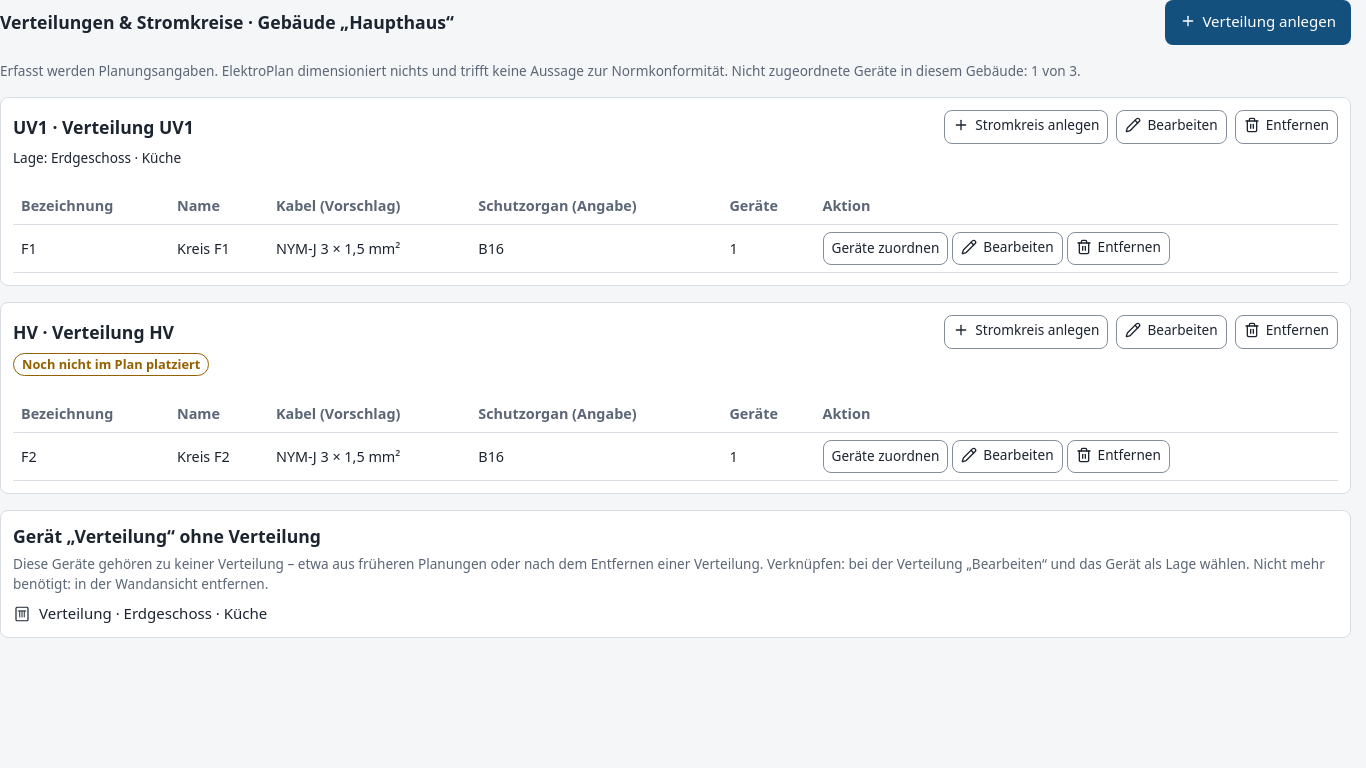
Test: Verteilungen und Stromkreise › bietet beim Anlegen nur freie Lagegeräte an und zeigt einen doppelten Code verständlich
The image size is (1366, 768).
Check: the element "Verteilung UV1" is shown, box [0,97,1351,286]
Click the button "Verteilung anlegen" at (1258, 22), box [1165,0,1351,45]
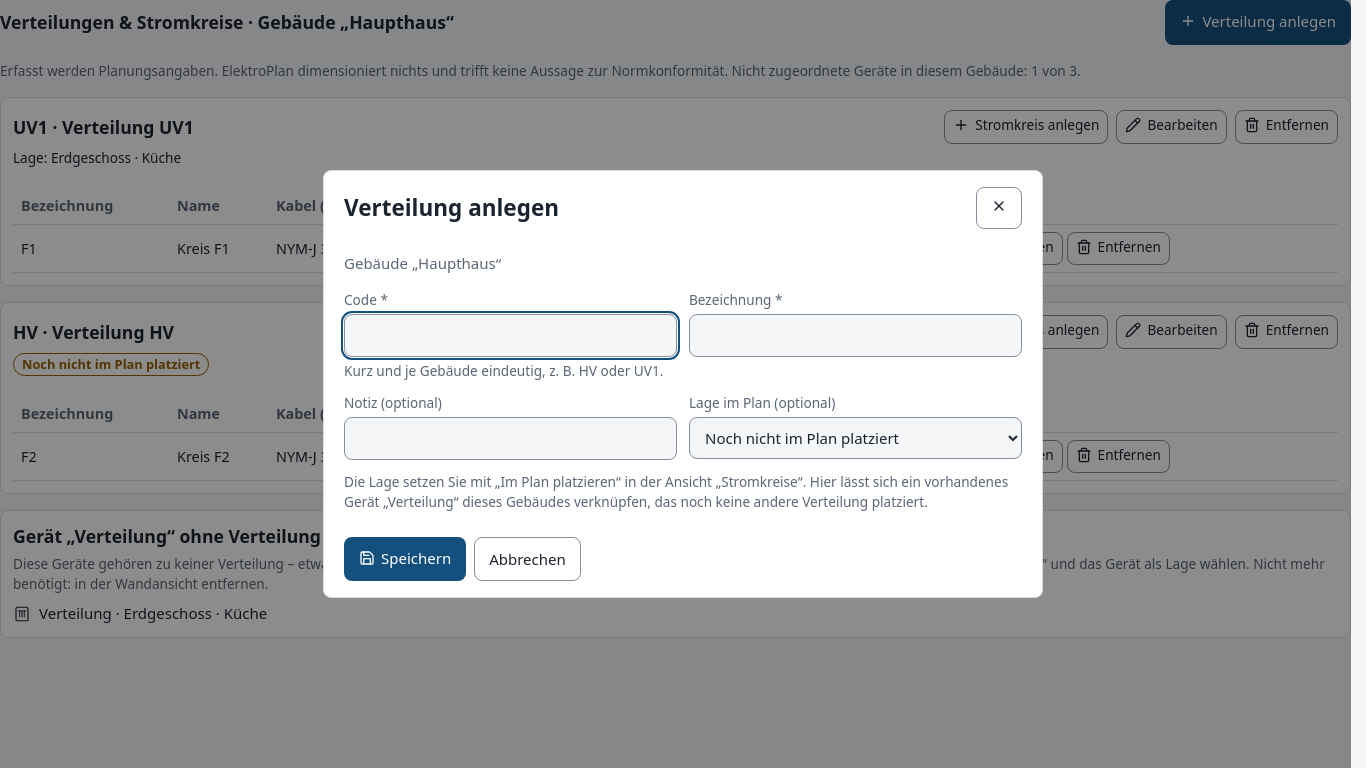
Type "UV1" into the field labelled "Code *" at (510, 335), box [344,314,677,356]
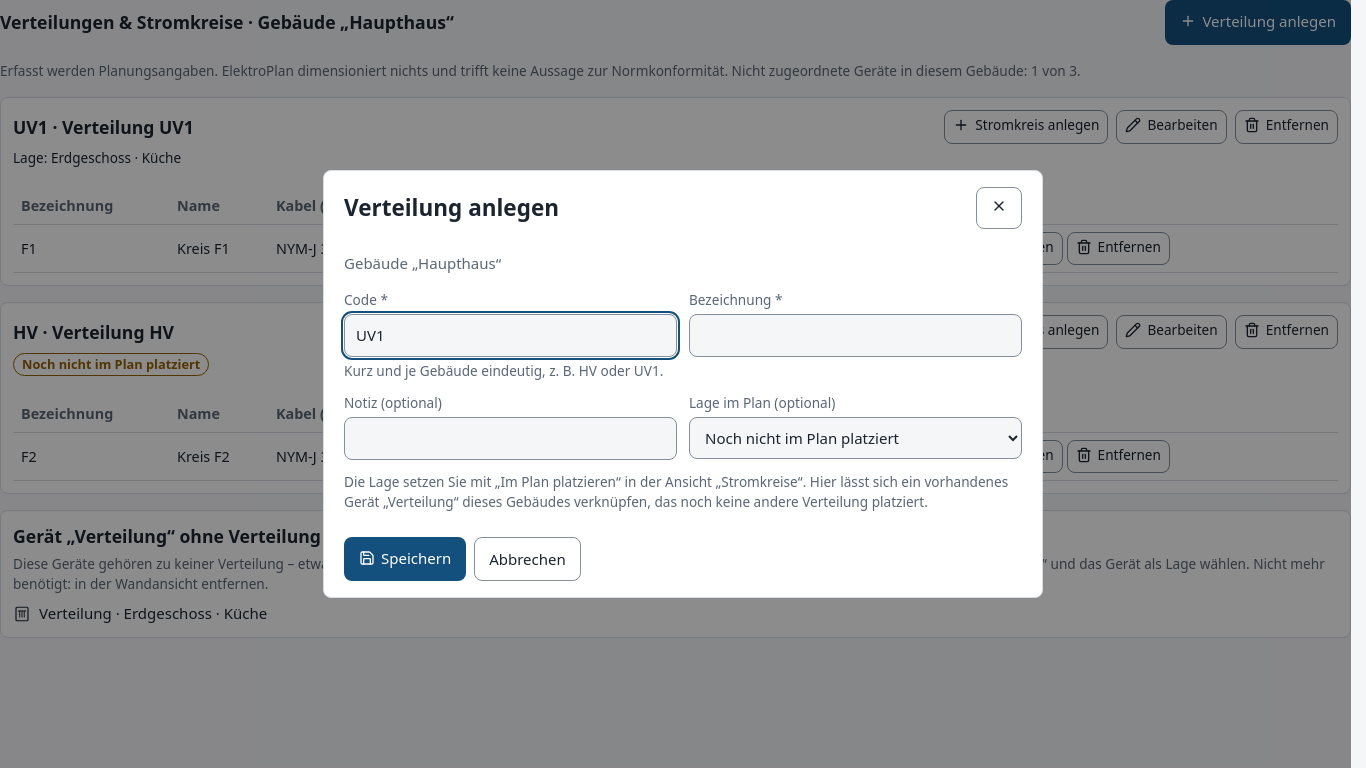
Type "Doppelt" into the field labelled "Bezeichnung *" at (856, 335), box [689,314,1022,356]
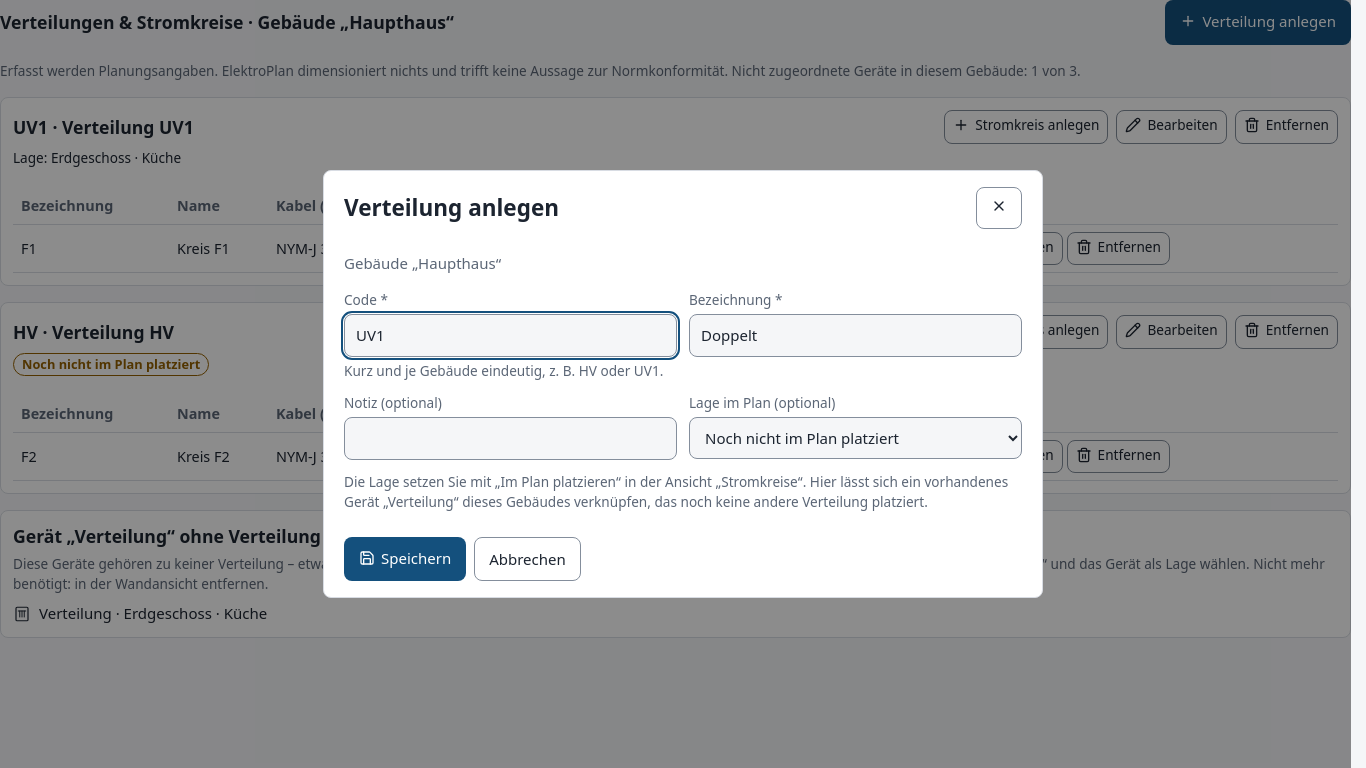
Select "Erdgeschoss · Küche · Verteilung" in the dropdown labelled "Lage im Plan (optional)" at (856, 438), box [689,417,1022,459]
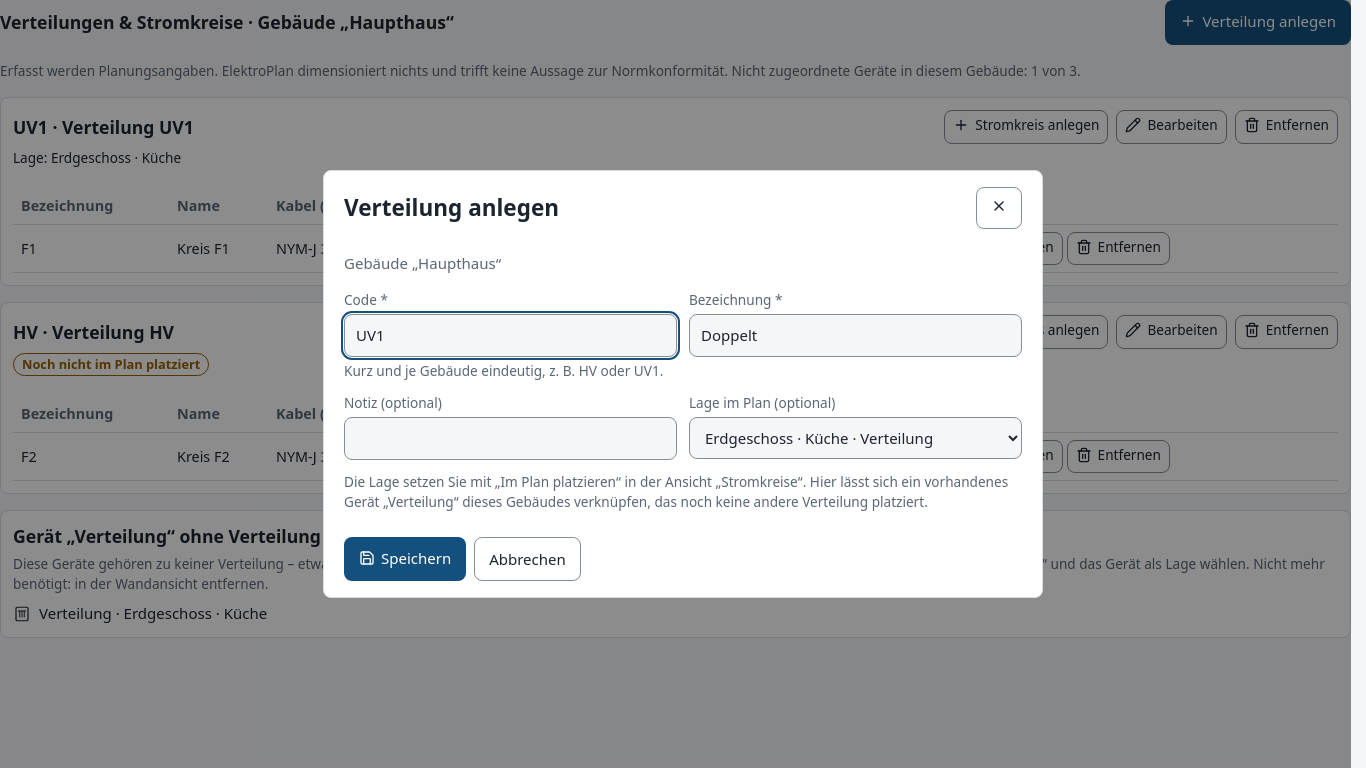
Click the button "Speichern" at (405, 559), box [344,537,466,581]
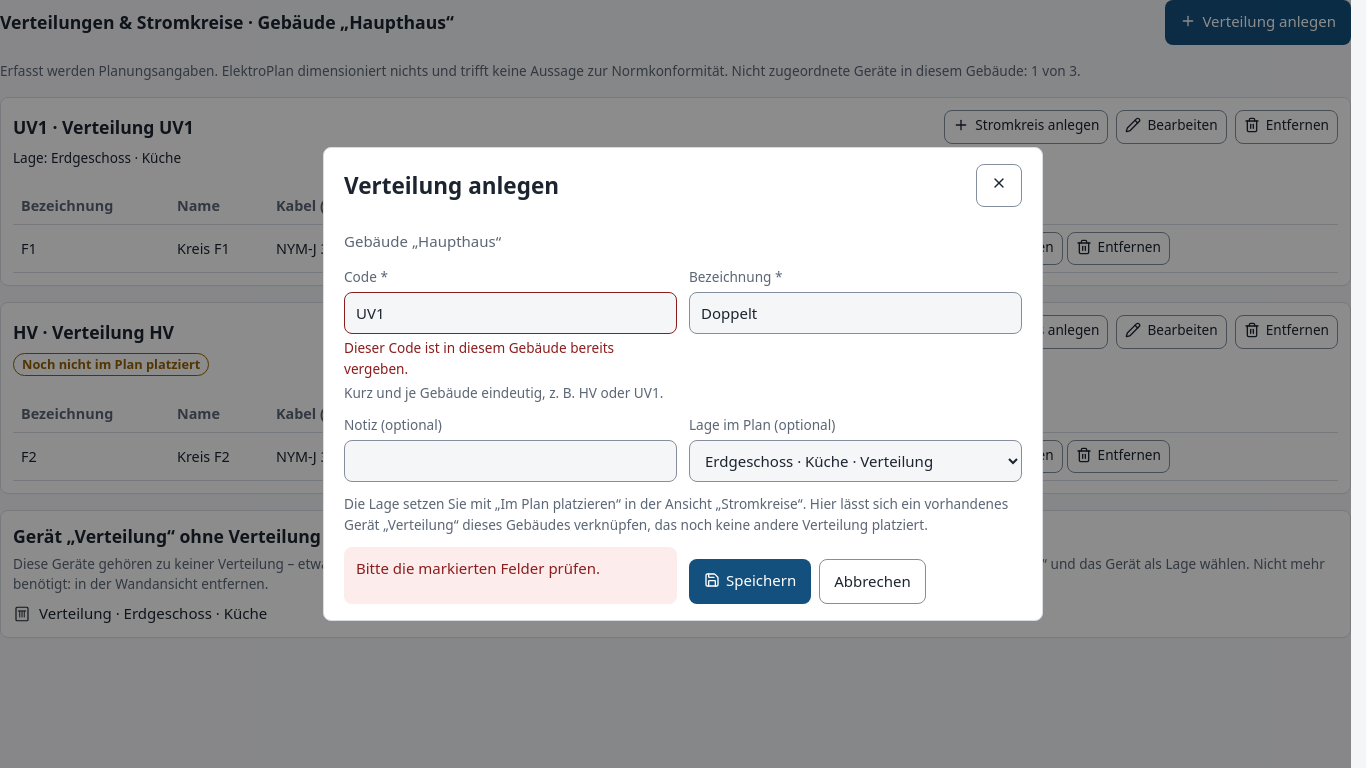
Check: the text "Dieser Code ist in diesem Gebäude bereits vergeben." is shown, box [344,338,614,378]
